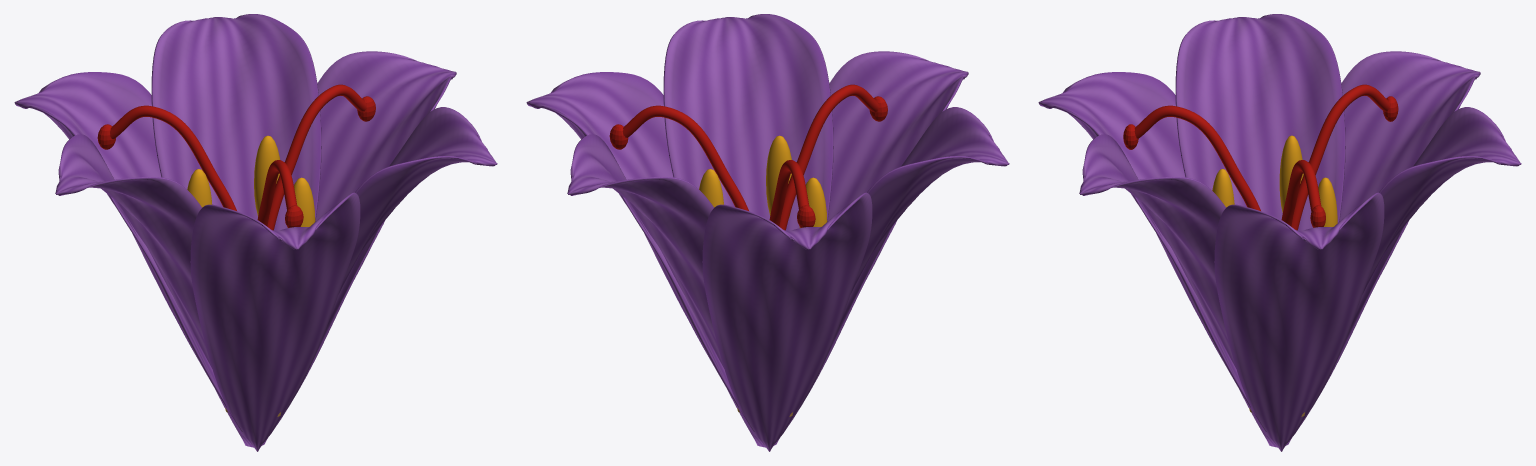
File: crocus-v2.glb
3 views of the same model, side by side, from view 1: azimuth 30°, elevation 25°; view 2: azimuth 150°, elevation 25°; view 3: azimuth 270°, elevation 25° (orthographic).
Visible parts, largest first — view 1: Tepal 5, Tepal 2, Tepal 1, Tepal 3, Tepal 4, Tepal 6, Stigma 1, Stigma 0, Stigma 2, Pollen anther 0, Pollen anther 2, Pollen anther 1; view 2: Tepal 3, Tepal 6, Tepal 5, Tepal 1, Tepal 2, Tepal 4, Stigma 0, Stigma 2, Stigma 1, Pollen anther 2, Pollen anther 1, Pollen anther 0; view 3: Tepal 1, Tepal 4, Tepal 3, Tepal 5, Tepal 6, Tepal 2, Stigma 2, Stigma 1, Stigma 0, Pollen anther 1, Pollen anther 0, Pollen anther 2.
Boxes of the visible parts, left/top/right/bottom form: Tepal 5: left=190, top=192, right=360, bottom=451; Tepal 2: left=151, top=14, right=321, bottom=230; Tepal 1: left=262, top=51, right=456, bottom=445; Tepal 3: left=14, top=72, right=253, bottom=447; Tepal 4: left=55, top=134, right=212, bottom=368; Tepal 6: left=338, top=107, right=497, bottom=294; Stigma 1: left=110, top=105, right=236, bottom=210; Stigma 0: left=267, top=84, right=366, bottom=230; Stigma 2: left=257, top=160, right=297, bottom=226; Pollen anther 0: left=254, top=135, right=279, bottom=216; Pollen anther 2: left=294, top=177, right=315, bottom=226; Pollen anther 1: left=187, top=169, right=212, bottom=207; Tepal 3: left=702, top=192, right=872, bottom=451; Tepal 6: left=663, top=14, right=833, bottom=230; Tepal 5: left=774, top=51, right=968, bottom=445; Tepal 1: left=526, top=72, right=765, bottom=447; Tepal 2: left=567, top=134, right=724, bottom=368; Tepal 4: left=850, top=107, right=1009, bottom=294; Stigma 0: left=622, top=105, right=748, bottom=210; Stigma 2: left=779, top=84, right=878, bottom=230; Stigma 1: left=769, top=160, right=809, bottom=226; Pollen anther 2: left=766, top=135, right=791, bottom=217; Pollen anther 1: left=799, top=177, right=827, bottom=227; Pollen anther 0: left=699, top=169, right=723, bottom=207; Tepal 1: left=1214, top=192, right=1384, bottom=451; Tepal 4: left=1175, top=14, right=1345, bottom=230; Tepal 3: left=1286, top=51, right=1480, bottom=445; Tepal 5: left=1038, top=72, right=1277, bottom=447; Tepal 6: left=1079, top=134, right=1236, bottom=368; Tepal 2: left=1362, top=107, right=1521, bottom=294; Stigma 2: left=1134, top=105, right=1260, bottom=210; Stigma 1: left=1291, top=84, right=1389, bottom=230; Stigma 0: left=1281, top=160, right=1321, bottom=226; Pollen anther 1: left=1279, top=135, right=1303, bottom=212; Pollen anther 0: left=1318, top=177, right=1337, bottom=226; Pollen anther 2: left=1212, top=169, right=1234, bottom=207.
Bounding box in the file's own units: 2.28 × 1.68 × 2.16.
4 materials, 1 textured.
